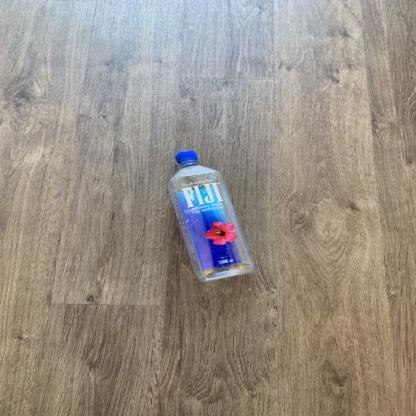trash: (166, 152, 258, 285)
